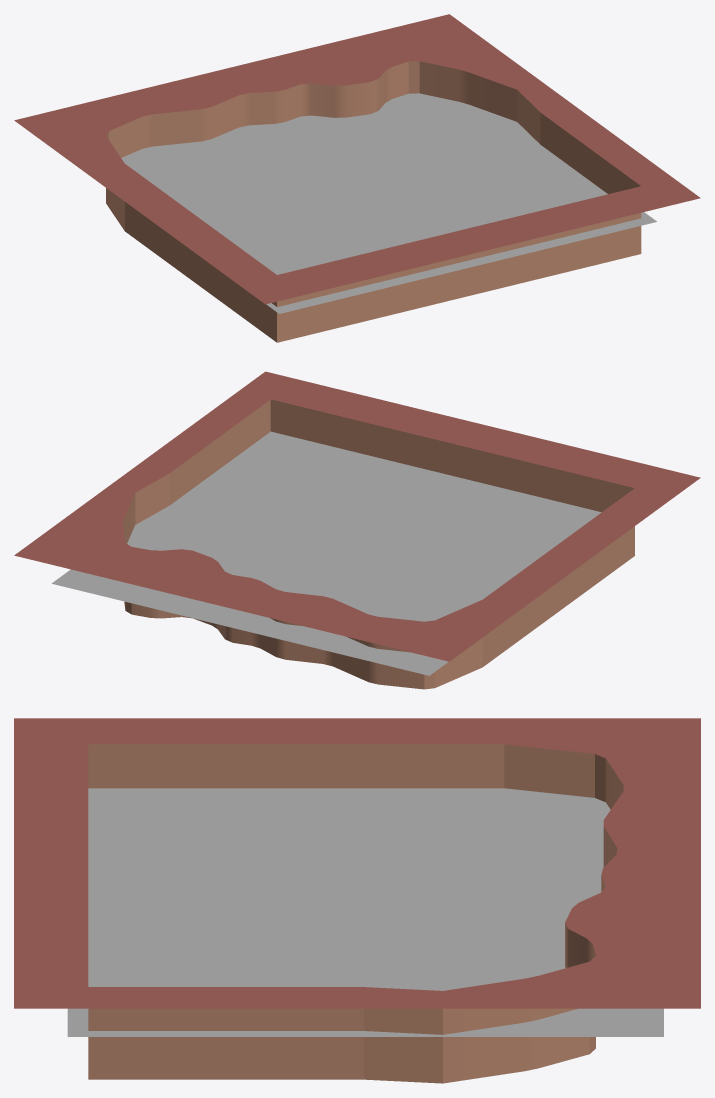
Rendered from SM_lake.fbx.
3 views of the same model, one above another, from view 1: azimuth 30°, elevation 25°; view 2: azimuth 150°, elevation 25°; view 3: azimuth 270°, elevation 25° (orthographic). The views are drawn at different scales.
Parts seen in each view (by area): view 1: SM_Lake; view 2: SM_Lake; view 3: SM_Lake.
Boxes of the visible parts, x1,y1,x2,y2 form: SM_Lake: [14, 14, 700, 342]; SM_Lake: [14, 371, 700, 689]; SM_Lake: [14, 718, 700, 1083].
Size of the model in its own units: 4000 by 595 by 4000.
